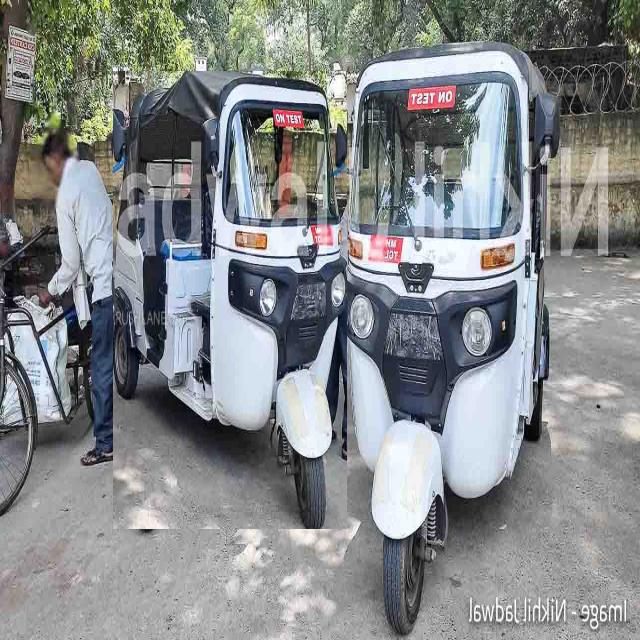autorickshaw: (345, 44, 560, 630), (113, 71, 346, 529)
